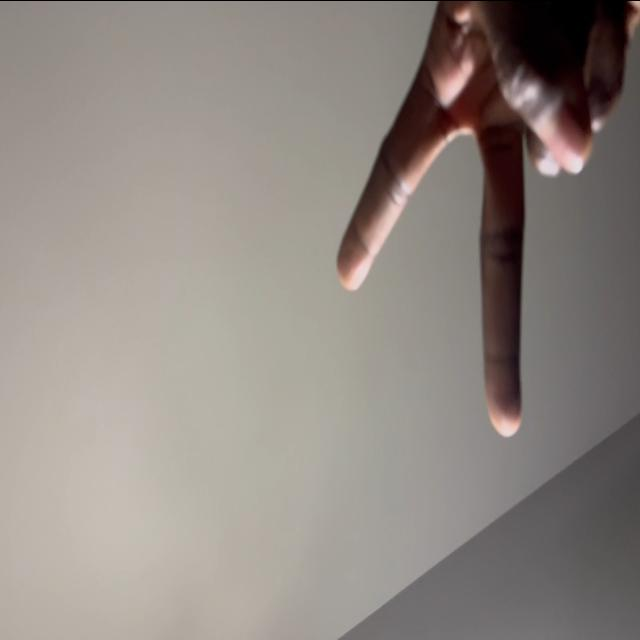Scissors: (332, 0, 632, 441)
